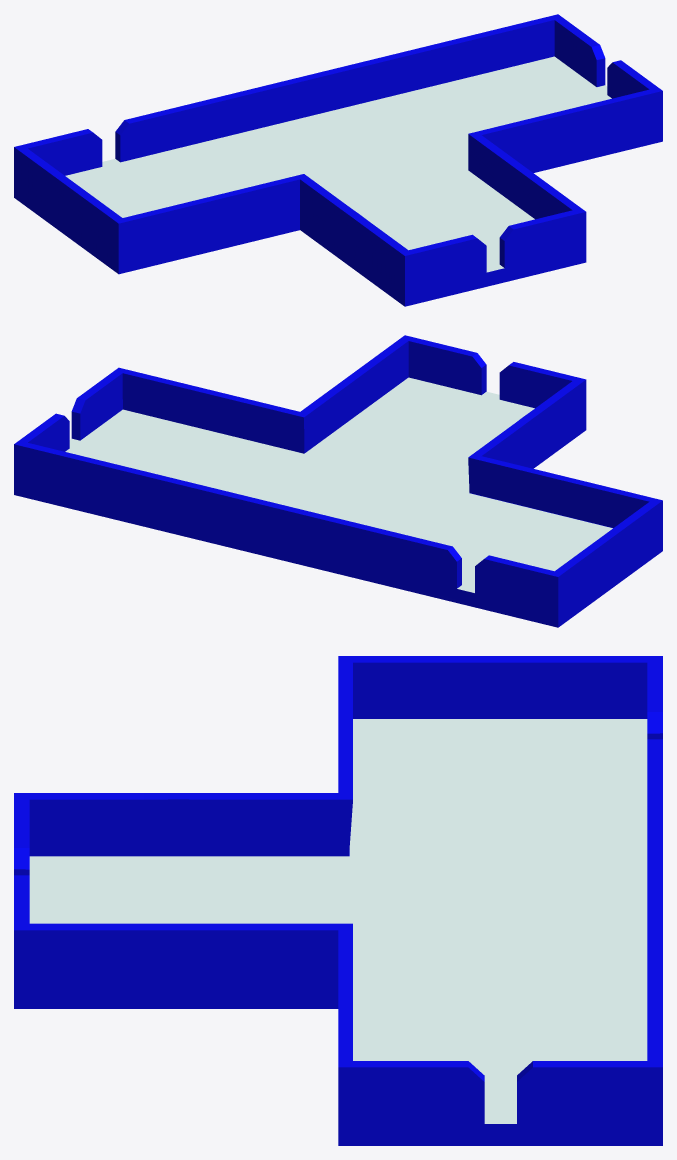
File: dungeon_tile_t.obj
3 renders of one model, top to bottom at view 1: azimuth 30°, elevation 25°; view 2: azimuth 150°, elevation 25°; view 3: azimuth 270°, elevation 25°, orthographic. The views are drawn at different scales.
Visible parts, largest first — view 1: Room_T_Cube.005; view 2: Room_T_Cube.005; view 3: Room_T_Cube.005.
Part boxes in pixels (x1,y1,x2,y2): Room_T_Cube.005: (14, 14, 662, 306); Room_T_Cube.005: (14, 335, 662, 627); Room_T_Cube.005: (14, 656, 662, 1145).
Bounding box in the file's own units: 6 × 0.5363 × 4.
1 material, 1 textured.
